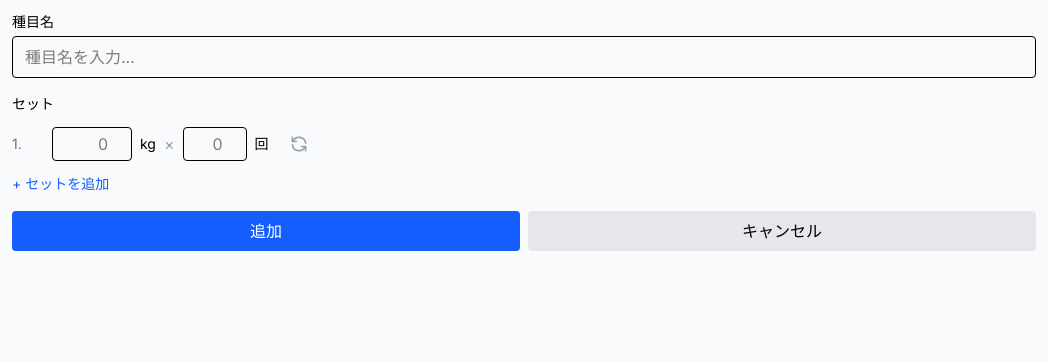
Test: ExerciseForm › 前回記録 › 種目名入力で前回記録が表示される
Type "ベンチプレス" into the field with placeholder "種目名を入力..." at (524, 57), box x1=12 y1=36 x2=1036 y2=78
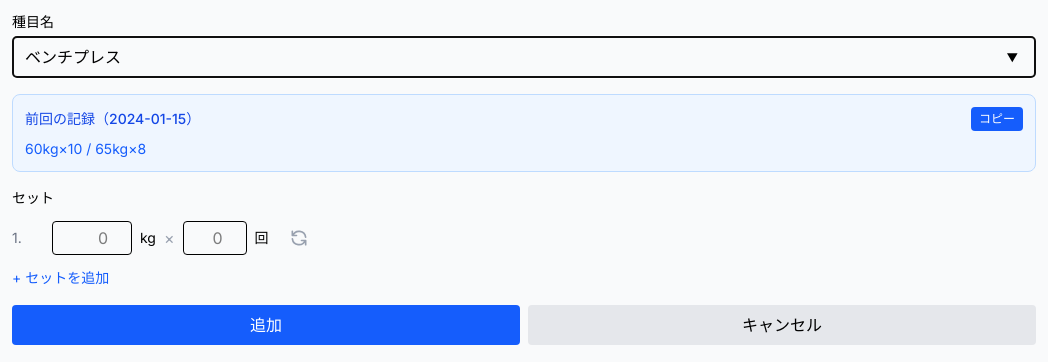
Now the text "前回の記録（2024-01-15）" is shown, box x1=25 y1=109 x2=200 y2=129
